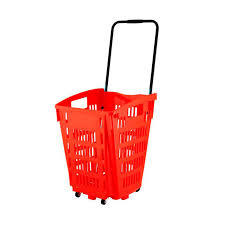with_basket: (51, 18, 159, 201)
